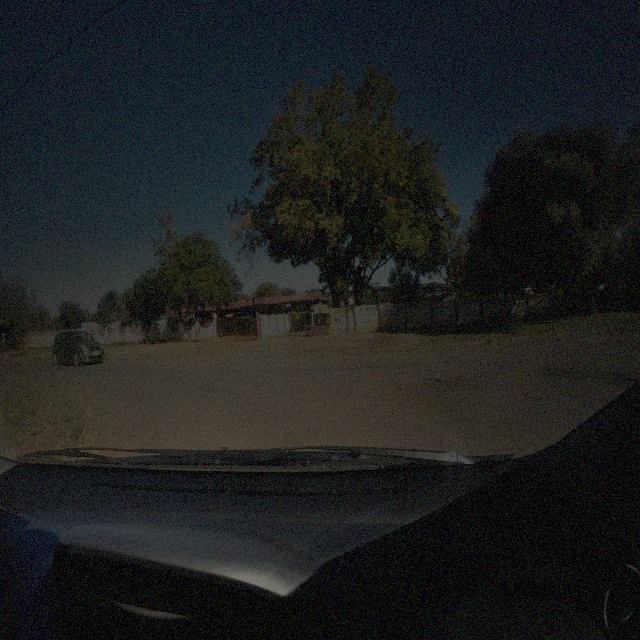pothole: (602, 369, 634, 393), (424, 376, 452, 392)
